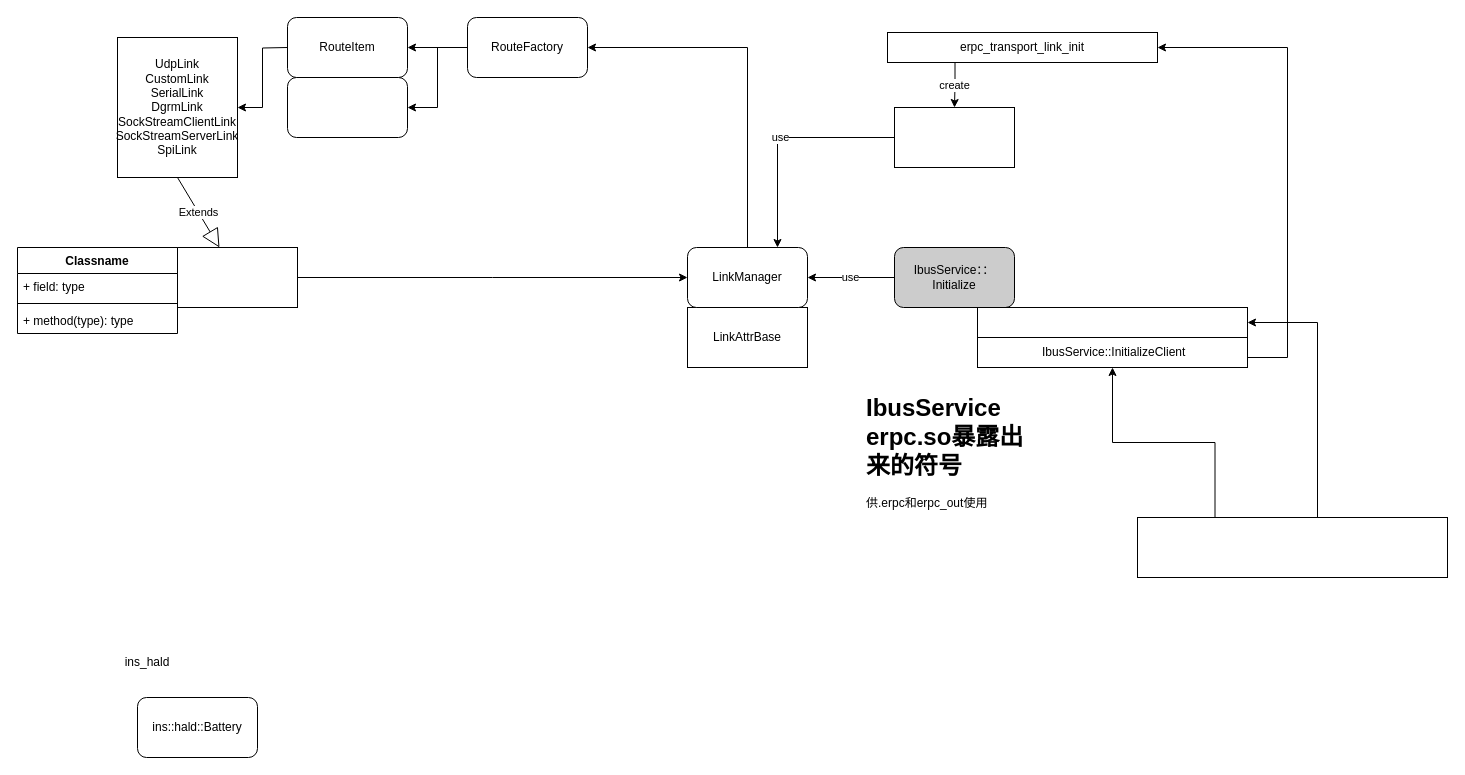
Some shapes in this 1465 by 775 pixel diagram are drawn without their labels. Each missing label, with the box of its shape:
IbusService::InitializeServer: (976, 306, 1248, 338)
Link: (176, 246, 298, 308)
LinkTransport: (894, 106, 1014, 168)
RouteTable RouteModeConfig: (286, 76, 408, 138)
template: (1136, 516, 1448, 578)
